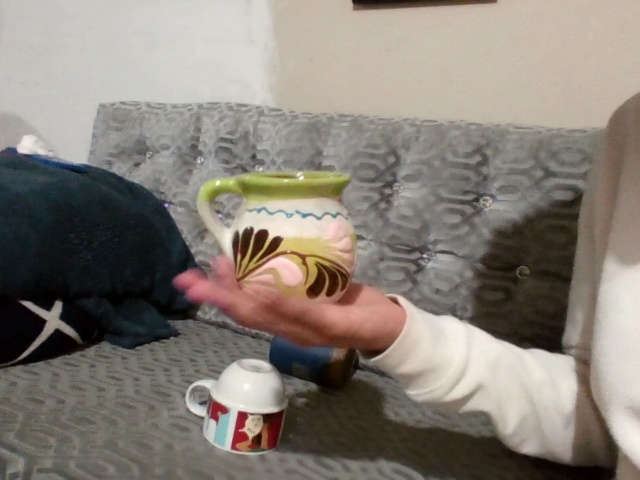botella: (171, 137, 420, 312), (152, 352, 342, 457)
